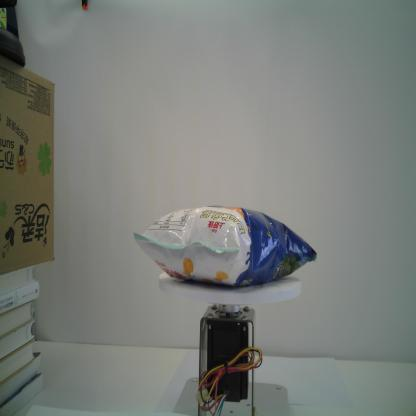Puffed Food: (132, 204, 317, 289)
